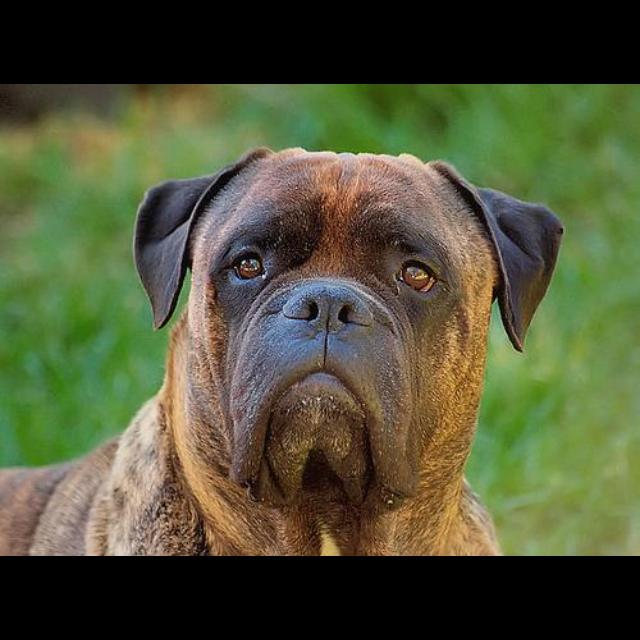bullmastiff: (1, 146, 565, 556)
